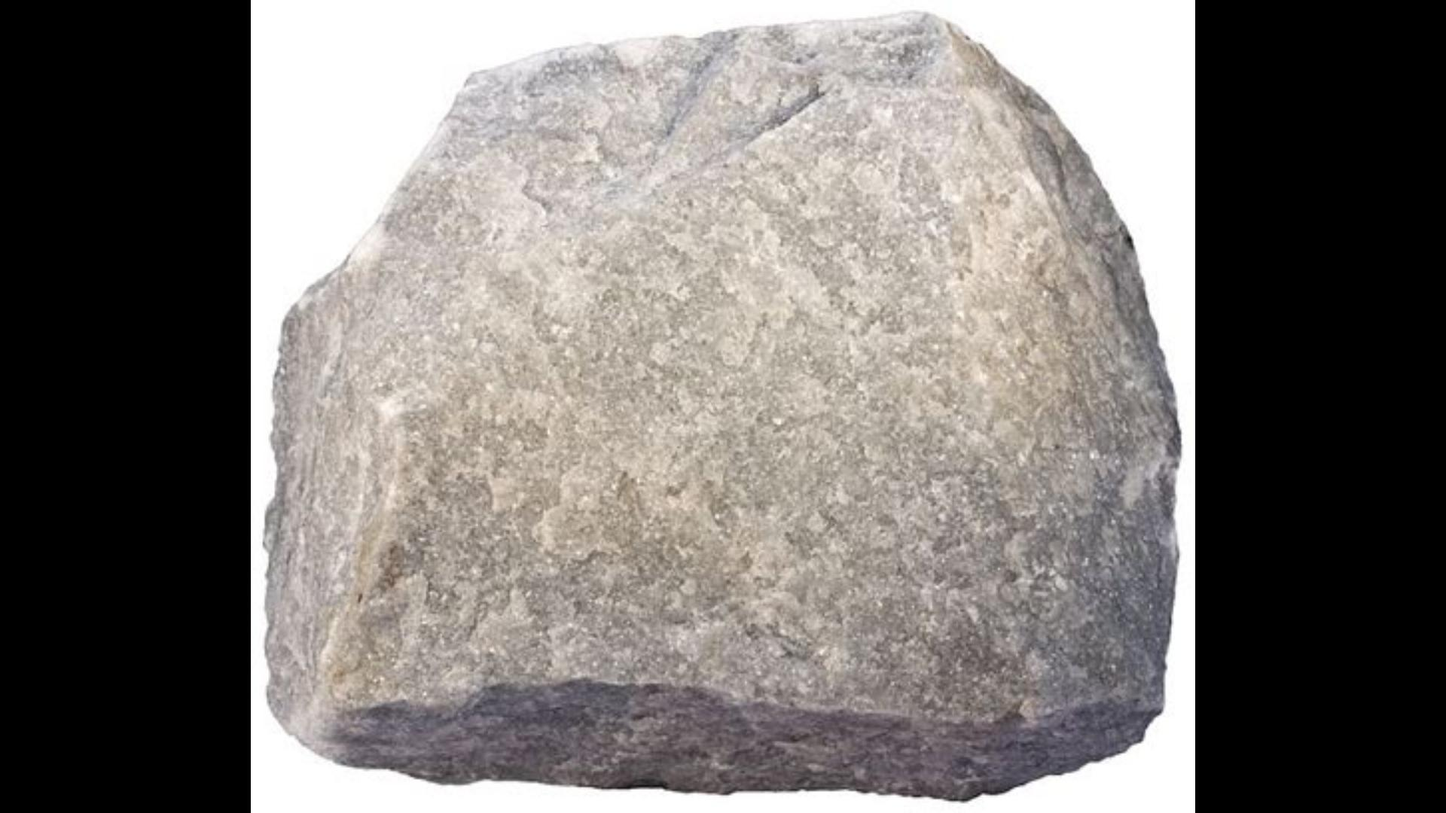rock: (275, 14, 1178, 795)
